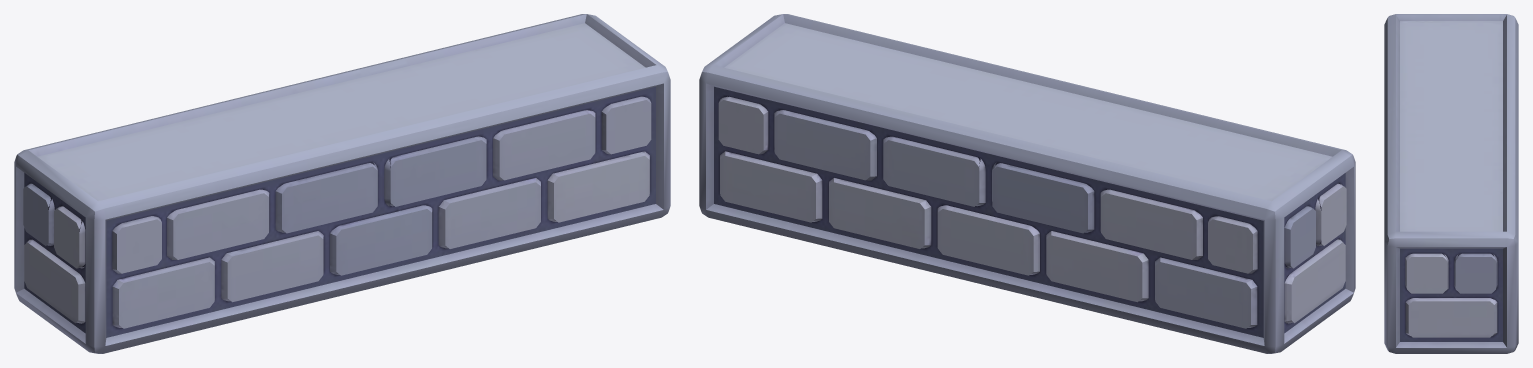
The model's file is tas4.glb.
The picture shows the model from 3 angles, left to right: view 1: azimuth 30°, elevation 25°; view 2: azimuth 150°, elevation 25°; view 3: azimuth 270°, elevation 25°; orthographic projection. The views are drawn at different scales.
Visible parts, largest first — view 1: tas4; view 2: tas4; view 3: tas4.
Part boxes in pixels (<box>): tas4: <box>14,14,670,353</box>; tas4: <box>699,14,1355,353</box>; tas4: <box>1384,14,1518,353</box>.
Bounding box in the file's own units: 6.14 × 1.53 × 1.53.
1 material, 1 textured.
